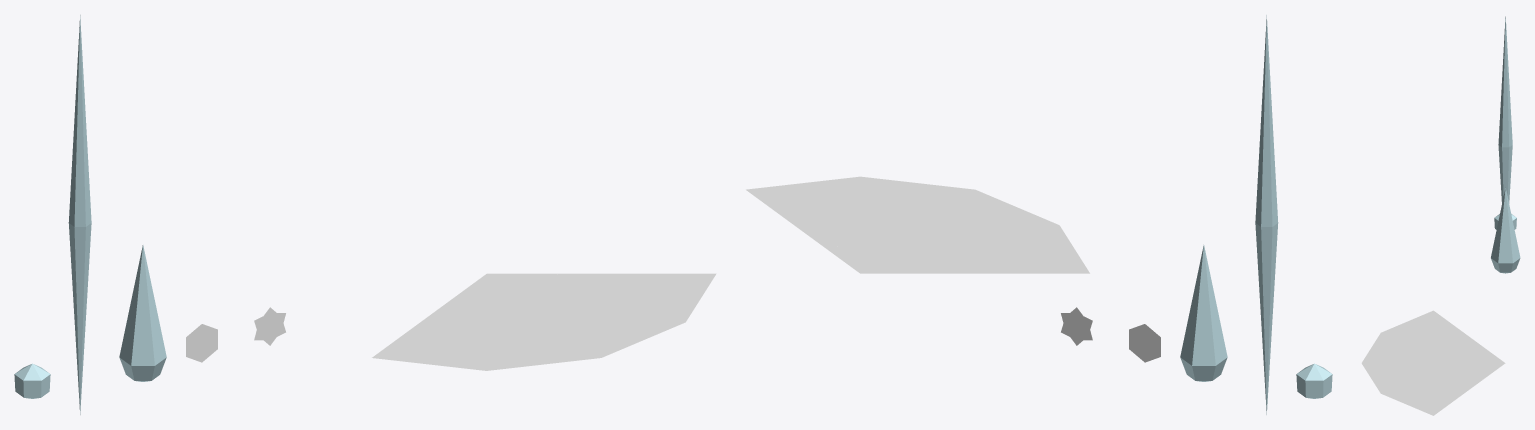
Rendered from partcl.fbx.
3 views of the same model, side by side, from view 1: azimuth 30°, elevation 25°; view 2: azimuth 150°, elevation 25°; view 3: azimuth 270°, elevation 25° (orthographic). The views are drawn at different scales.
Parts seen in each view (by area): view 1: EmitterOneThirdCircleFar, RainSharpParticle01, RainThickParticle01, EmitterOneThirdCircle, RainRoundParticle, SnowParticle01, SnowParticle02; view 2: EmitterOneThirdCircleFar, RainSharpParticle01, RainThickParticle01, EmitterOneThirdCircle, RainRoundParticle, SnowParticle01, SnowParticle02; view 3: EmitterOneThirdCircleFar, RainSharpParticle01, RainThickParticle01, EmitterOneThirdCircle.
Boxes of the visible parts, box(x1,y1,x2,y2) form: EmitterOneThirdCircleFar: box(372, 273, 716, 370); RainSharpParticle01: box(68, 15, 91, 414); RainThickParticle01: box(119, 245, 166, 381); EmitterOneThirdCircle: box(451, 273, 557, 303); RainRoundParticle: box(14, 363, 50, 398); SnowParticle01: box(186, 324, 217, 362); SnowParticle02: box(254, 307, 285, 345); EmitterOneThirdCircleFar: box(746, 176, 1089, 273); RainSharpParticle01: box(1255, 15, 1278, 414); RainThickParticle01: box(1180, 245, 1227, 381); EmitterOneThirdCircle: box(825, 243, 931, 273); RainRoundParticle: box(1296, 363, 1332, 398); SnowParticle01: box(1129, 324, 1160, 362); SnowParticle02: box(1061, 307, 1092, 345); EmitterOneThirdCircleFar: box(1361, 310, 1482, 415); RainSharpParticle01: box(1498, 16, 1512, 203); RainThickParticle01: box(1491, 188, 1520, 273); EmitterOneThirdCircle: box(1461, 347, 1505, 379).
Bounding box in the file's own units: 1033 × 620 × 355.
